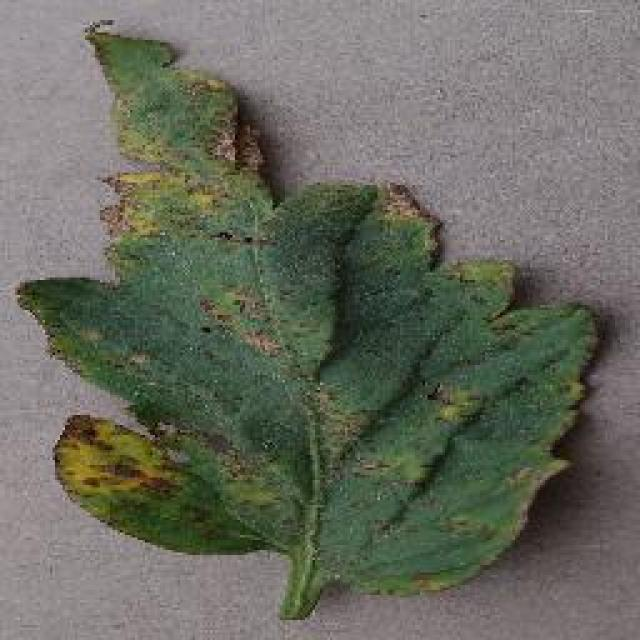Tomato___Bacterial_spot: (10, 28, 607, 621)
